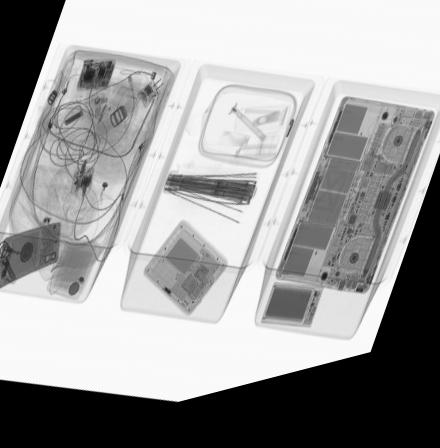Powerbank: (259, 295, 323, 342)
